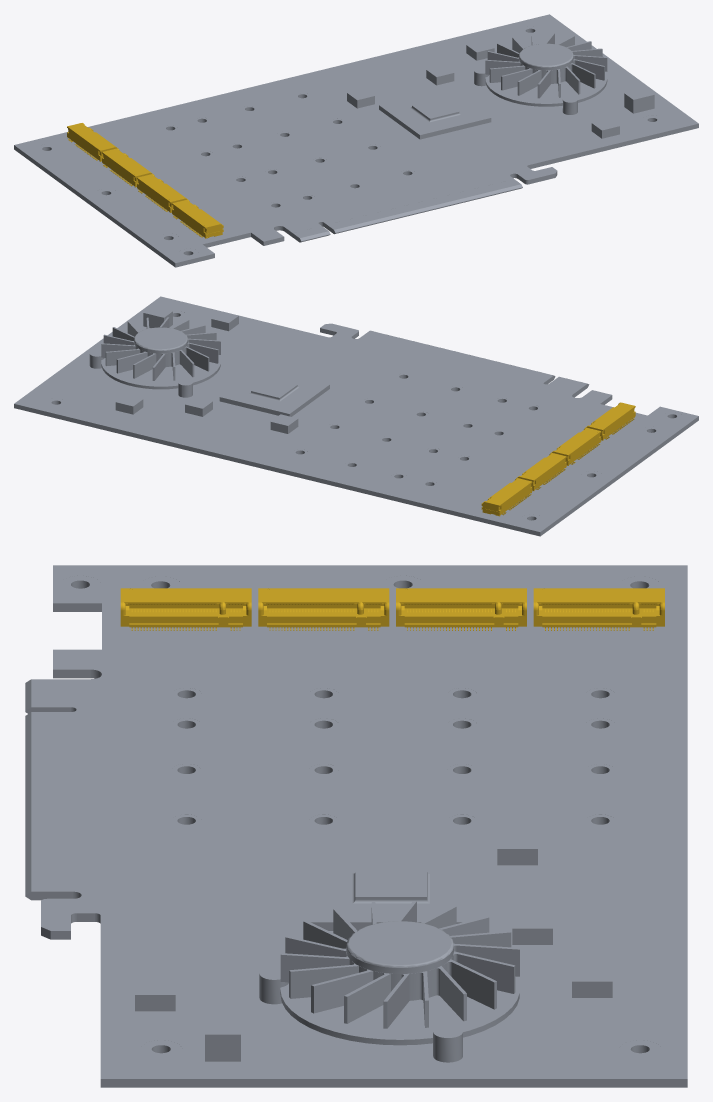
The model's file is riser-pcie4-x16-fhhl-BPgFbn6T.glb.
3 views of the same model, one above another, from view 1: azimuth 30°, elevation 25°; view 2: azimuth 150°, elevation 25°; view 3: azimuth 270°, elevation 25° (orthographic). The views are drawn at different scales.
Visible parts, largest first — view 1: solid (×3), riser-pcie4-x16-fhhl; view 2: solid (×3), riser-pcie4-x16-fhhl; view 3: solid (×3), riser-pcie4-x16-fhhl.
Boxes of the visible parts, box(x1,y1,x2,y2) form: solid (×3): box(14, 14, 698, 267); riser-pcie4-x16-fhhl: box(67, 123, 223, 238); solid (×3): box(14, 296, 698, 536); riser-pcie4-x16-fhhl: box(481, 402, 635, 516); solid (×3): box(25, 565, 687, 1087); riser-pcie4-x16-fhhl: box(120, 588, 664, 630).
Bounding box in the file's own units: 203 × 16.1 × 111.
